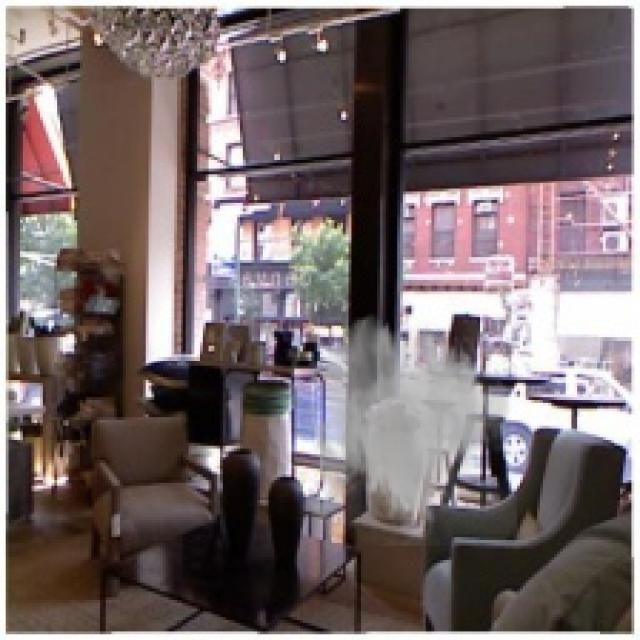Smoke: (300, 311, 517, 546)
